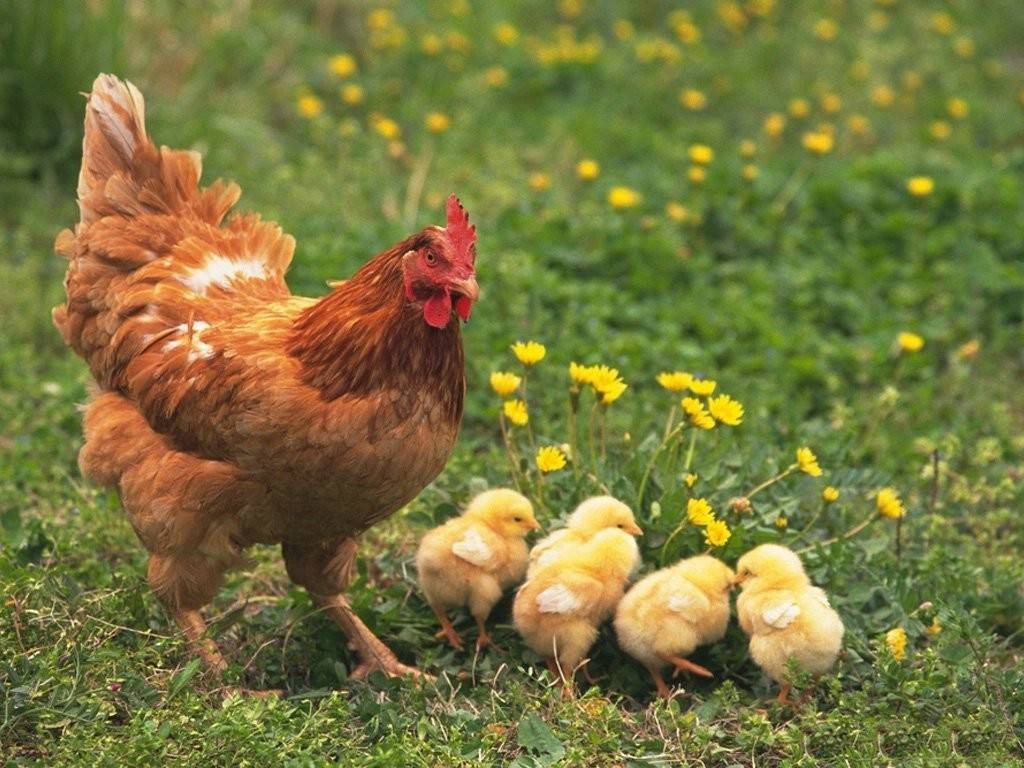chicken: (46, 66, 484, 718)
